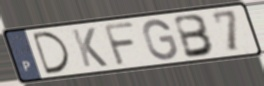7: (211, 8, 241, 54)
B: (172, 12, 217, 60)
D: (30, 30, 72, 76)
F: (101, 21, 138, 68)
G: (142, 18, 180, 61)
K: (70, 27, 111, 69)
